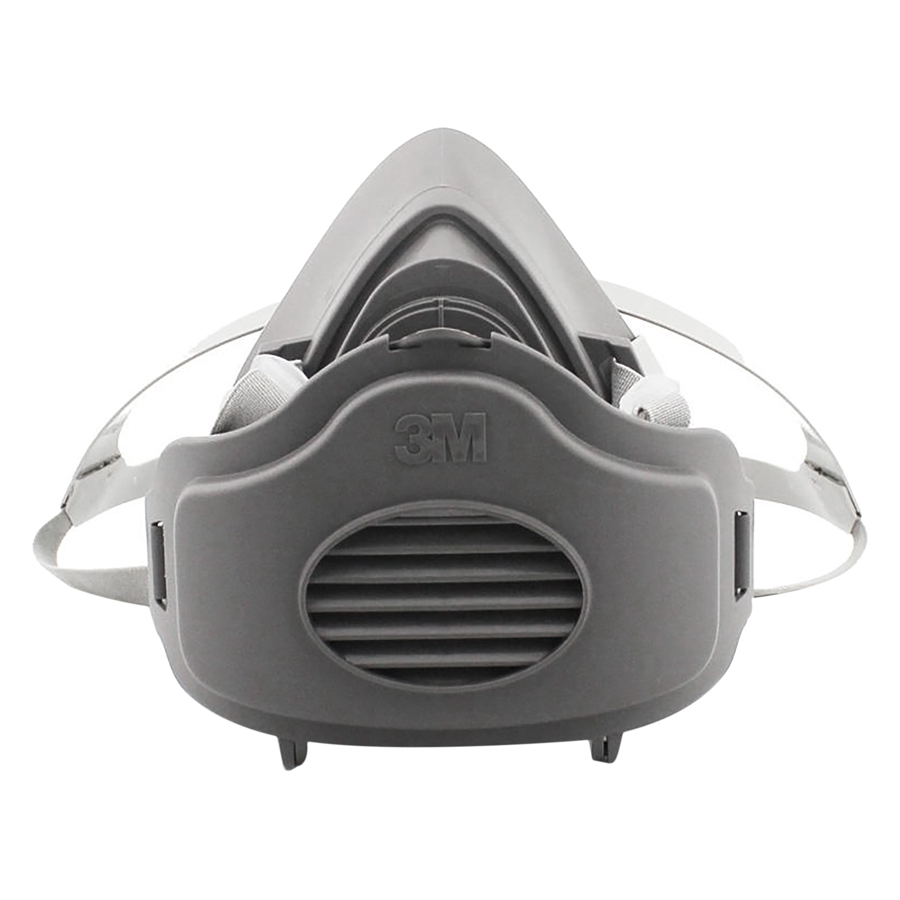3M: (377, 402, 507, 476)
